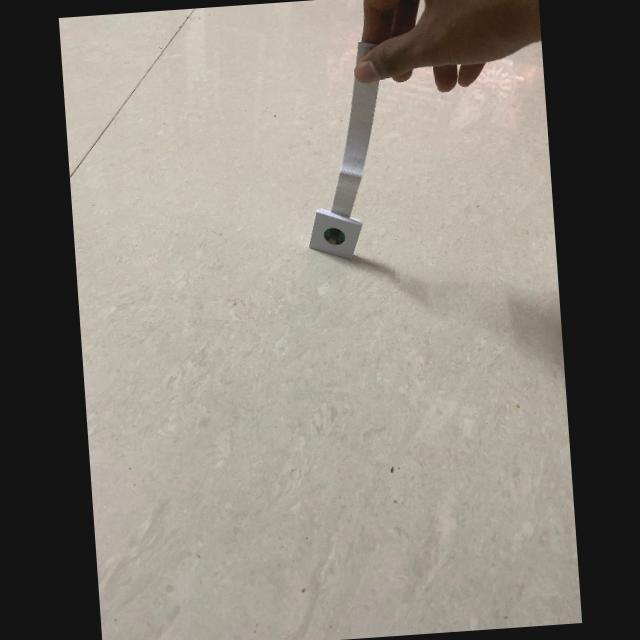RASPBERY PI CAM ENCLOSURE: (309, 210, 361, 258)
